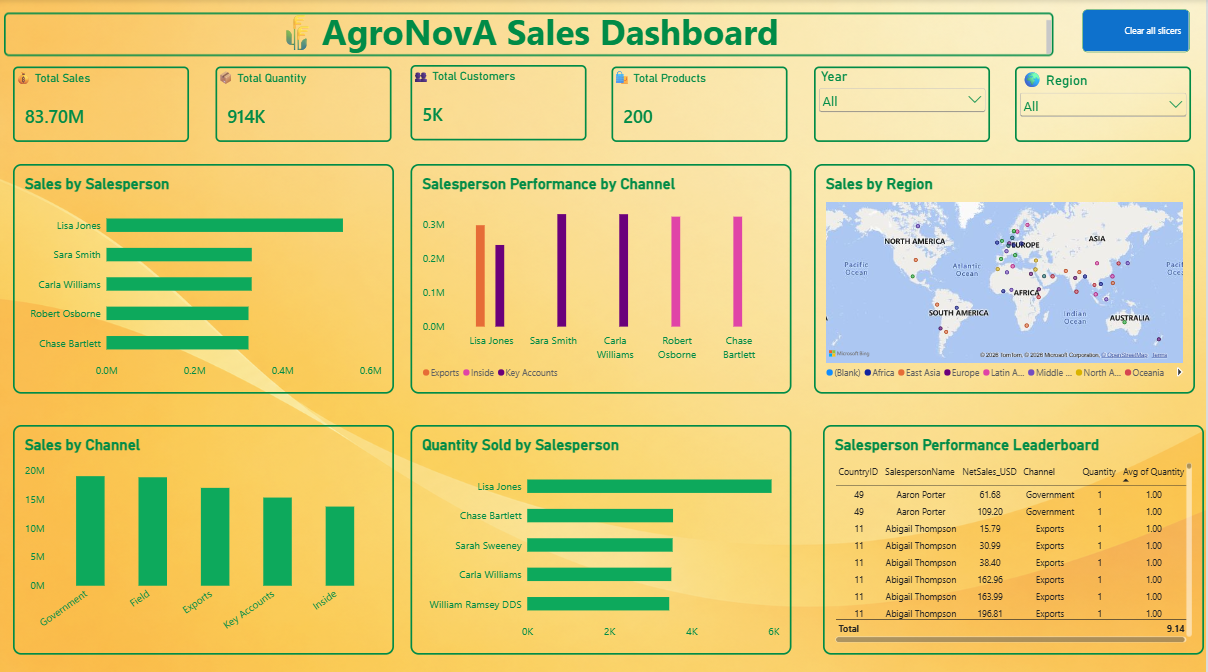

The page's visual inventory and layout, read from the dashboard file:
{"tool":"powerbi","page":{"name":"Salesperson & Channel Analysis","canvas":[1920,1080],"ordinal":2},"visuals":[{"type":"textbox","box":[9.1,20.4,1669,69],"z":0},{"type":"actionButton","title":"Reset","box":[1726.2,15.9,170.3,68.1],"z":1000},{"type":"cardVisual","title":"💰 Total Sales","fields":{"Data":["Sum(STG_Fact_Sales.NetSales_USD)"]},"box":[25,106.8,280,120],"z":2000},{"type":"cardVisual","title":"📦 Total Quantity","fields":{"Data":["Sum(STG_Fact_Sales.Quantity)"]},"box":[345.2,106.8,280,120],"z":3000},{"type":"cardVisual","title":"👥 Total Customers","fields":{"Data":["Count(STG_Fact_Sales.CustomerID)"]},"box":[656.4,104.5,280,120],"z":4000},{"type":"cardVisual","title":"🛍️ Total Products","fields":{"Data":["Count(STG_Fact_Sales.ProductID)"]},"box":[976.7,106.8,280,120],"z":5000},{"type":"slicer","fields":{"Values":["STG_Dim_Calendar.Year"]},"box":[1296.9,106.8,280,120],"z":6000},{"type":"slicer","fields":{"Values":["STG_Dim_Country.Region"]},"box":[1617.2,106.8,280,120],"z":7000},{"type":"clusteredBarChart","title":"Sales by Salesperson","fields":{"Category":["STG_Dim_Salesperson.SalespersonName"],"Y":["Sum(STG_Fact_Sales.NetSales_USD)"]},"box":[25,263.5,606,365],"z":8000},{"type":"clusteredColumnChart","title":"Sales by Channel","fields":{"Category":["STG_Dim_Salesperson.Channel"],"Y":["Sum(STG_Fact_Sales.NetSales_USD)"]},"box":[25,676.8,606,365],"z":9000},{"type":"clusteredColumnChart","title":"Salesperson Performance by Channel","fields":{"Category":["STG_Dim_Salesperson.SalespersonName"],"Y":["Sum(STG_Fact_Sales.NetSales_USD)"],"Series":["STG_Dim_Salesperson.Channel"]},"box":[656.4,263.5,606,365],"z":10000},{"type":"tableEx","title":"Salesperson Performance Leaderboard","fields":{"Values":["STG_Dim_Salesperson.CountryID","STG_Dim_Salesperson.SalespersonName","STG_Fact_Sales.NetSales_USD","STG_Fact_Sales.Channel","STG_Fact_Sales.Quantity","Avg(STG_Fact_Sales.Quantity)"]},"box":[1312.8,676.8,606,365],"z":11000},{"type":"map","title":"Sales by Region","fields":{"Category":["STG_Dim_Country.CountryName"],"Size":["Sum(STG_Fact_Sales.NetSales_USD)"],"Series":["STG_Dim_Country.Region"]},"box":[1296.9,263.5,606,365],"z":12000},{"type":"clusteredBarChart","title":"Quantity Sold by Salesperson","fields":{"Category":["STG_Dim_Salesperson.SalespersonName"],"Y":["Sum(STG_Fact_Sales.Quantity)"]},"box":[656,677,606,365],"z":13000}]}

Visuals, with their boxes in screenshot pixels (x1, y1, x2, y2), scaled from the page's 1920x1080 canvas onto the 1208x672 screenshot:
textbox: bbox=(6, 13, 1056, 56)
"Reset" actionButton: bbox=(1086, 10, 1193, 52)
"💰 Total Sales" cardVisual: bbox=(16, 66, 192, 141)
"📦 Total Quantity" cardVisual: bbox=(217, 66, 393, 141)
"👥 Total Customers" cardVisual: bbox=(413, 65, 589, 140)
"🛍️ Total Products" cardVisual: bbox=(615, 66, 791, 141)
slicer - STG_Dim_Calendar.Year: bbox=(816, 66, 992, 141)
slicer - STG_Dim_Country.Region: bbox=(1017, 66, 1194, 141)
"Sales by Salesperson" clusteredBarChart: bbox=(16, 164, 397, 391)
"Sales by Channel" clusteredColumnChart: bbox=(16, 421, 397, 648)
"Salesperson Performance by Channel" clusteredColumnChart: bbox=(413, 164, 794, 391)
"Salesperson Performance Leaderboard" tableEx: bbox=(826, 421, 1207, 648)
"Sales by Region" map: bbox=(816, 164, 1197, 391)
"Quantity Sold by Salesperson" clusteredBarChart: bbox=(413, 421, 794, 648)
